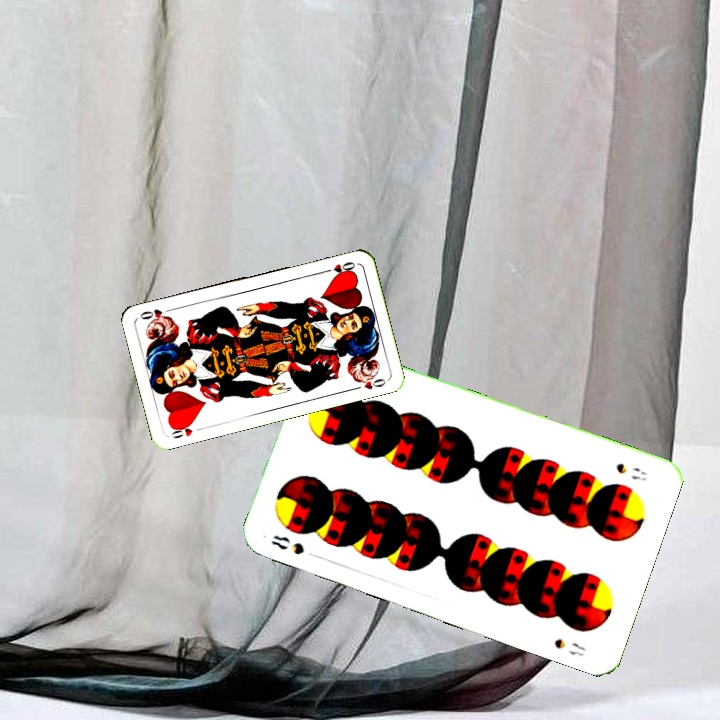HO: (167, 418, 206, 441), (319, 258, 358, 277)
S8: (268, 531, 307, 557), (612, 459, 649, 484)
